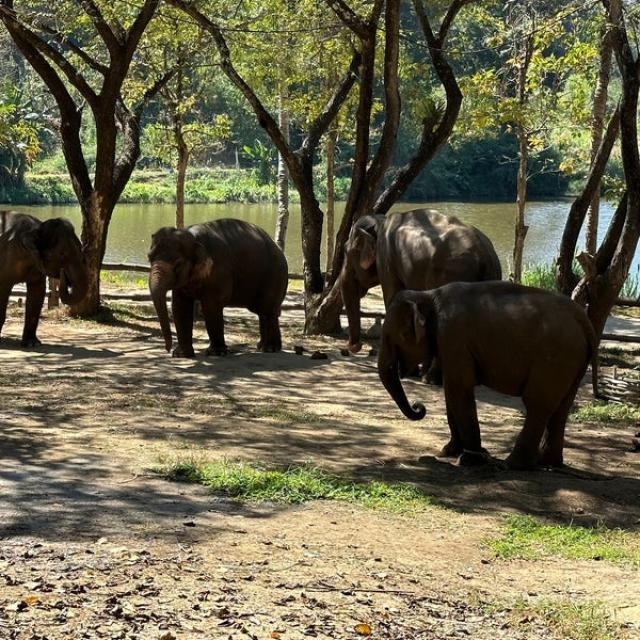Elephant: (374, 276, 600, 502), (324, 200, 512, 364), (135, 192, 297, 376), (0, 182, 99, 368)
